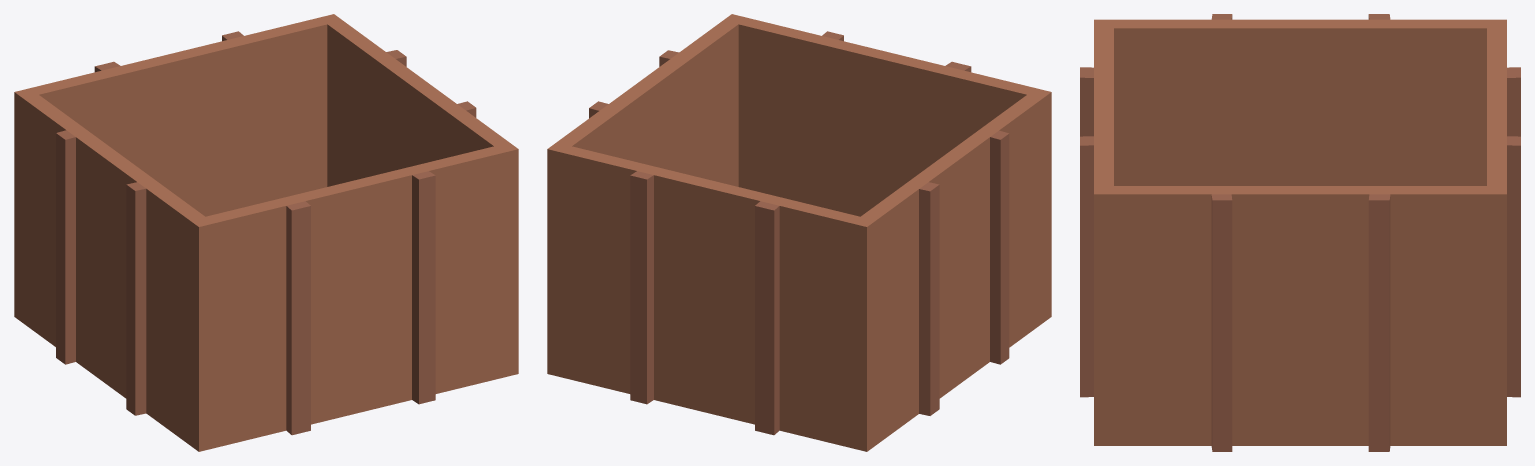
The picture shows the model from 3 angles, left to right: view 1: azimuth 30°, elevation 25°; view 2: azimuth 150°, elevation 25°; view 3: azimuth 270°, elevation 25°; orthographic projection. The views are drawn at different scales.
Visible parts, largest first — view 1: Cube.015; view 2: Cube.015; view 3: Cube.015.
Boxes of the visible parts, x1,y1,x2,y2 form: Cube.015: [14, 14, 518, 451]; Cube.015: [547, 14, 1051, 451]; Cube.015: [1080, 14, 1520, 451].
Bounding box in the file's own units: 394 × 248 × 394.
